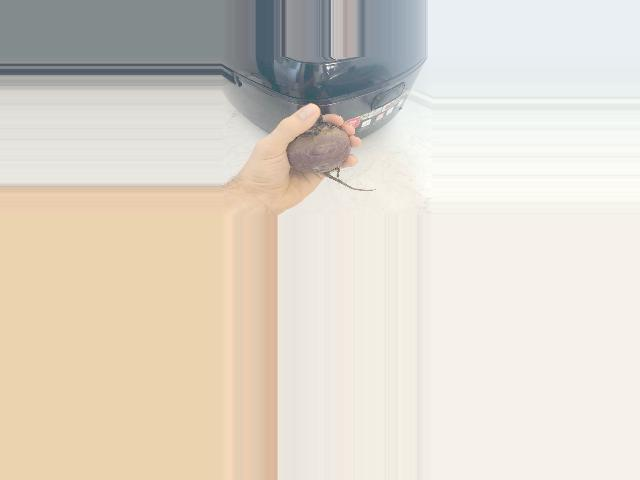beet: (287, 115, 376, 191)
